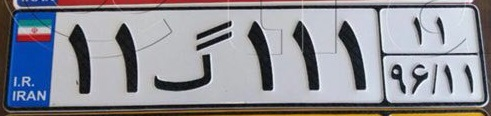1: (107, 18, 147, 98), (243, 16, 283, 94), (334, 15, 373, 94), (290, 15, 327, 94), (63, 19, 98, 102), (408, 13, 429, 49), (459, 59, 478, 95), (440, 60, 458, 96), (433, 13, 449, 47)
6: (408, 59, 433, 99)
9: (387, 57, 411, 96)
گ: (148, 16, 236, 94)
